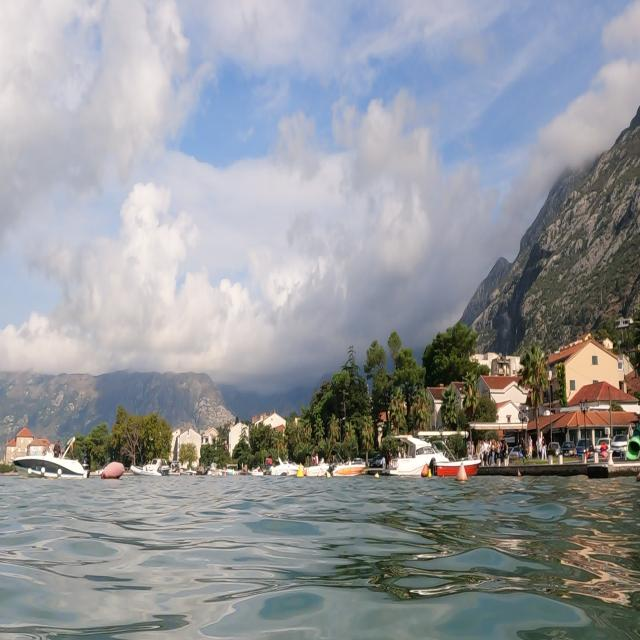boat: (12, 426, 92, 490), (382, 422, 456, 479), (304, 452, 372, 486), (430, 442, 483, 482), (130, 449, 182, 480), (266, 452, 304, 482)
buoy: (102, 458, 126, 481), (456, 461, 471, 483)
